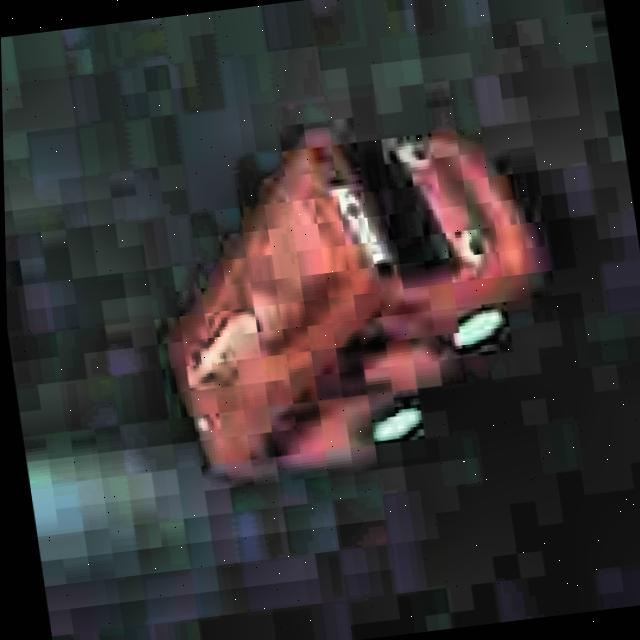bus: (119, 88, 584, 504)
